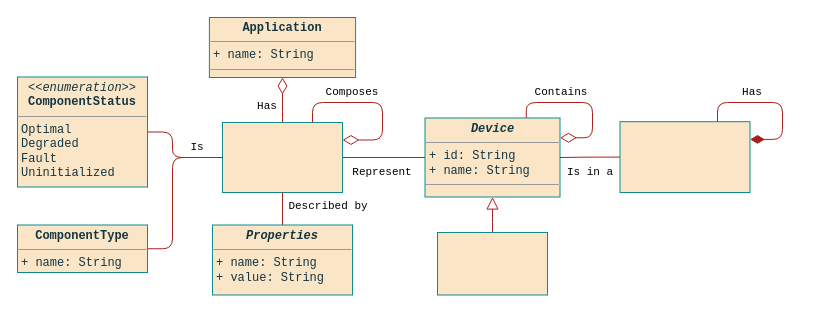
Some shapes in this 814 by 313 pixel diagram are drawn without their labels. Here are the shapes that lost their labels. From the top down, the centre of each, then its label:
point (282, 157): Component + id: String + name: String
point (684, 156): Location + id: String + name: String
point (492, 263): Gateway + ip: String
